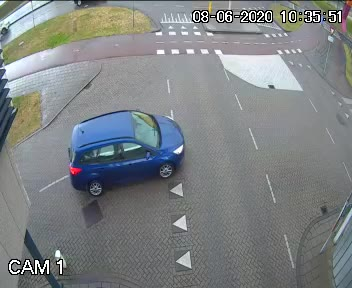car: (46, 107, 202, 193)
